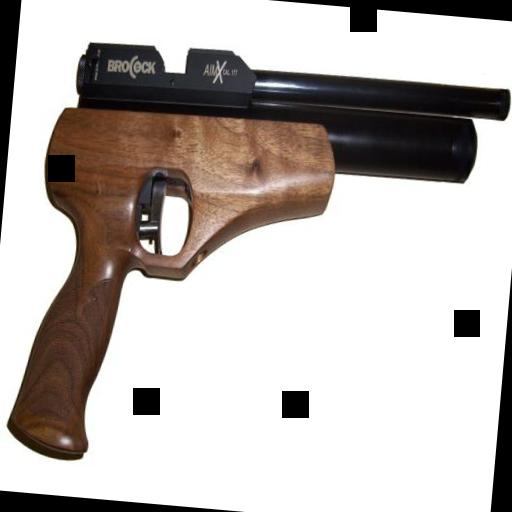Handgun: (16, 19, 511, 512)
